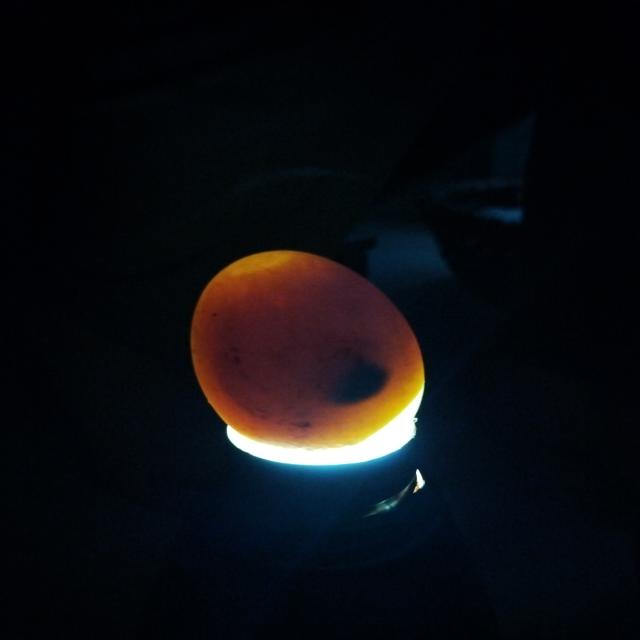Area Infectada: (211, 265, 404, 438)
